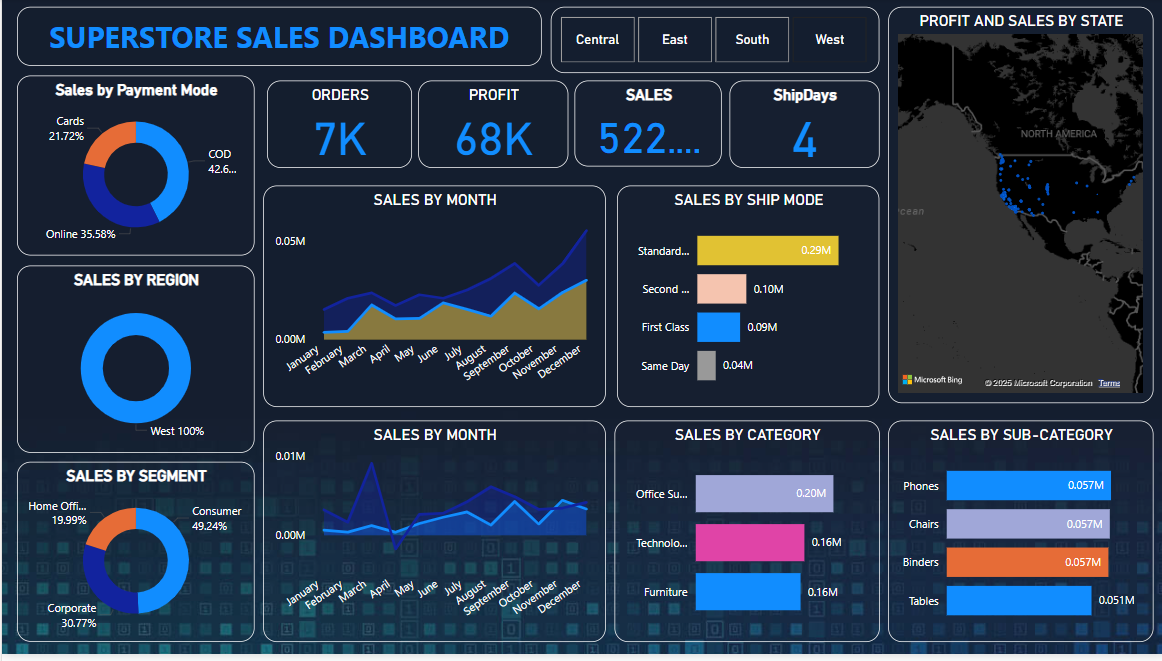

This screenshot's page, from the dashboard's own definition file:
{"tool":"powerbi","page":{"name":"Page 1","canvas":[1280,720],"ordinal":0},"visuals":[{"type":"donutChart","title":" Sales by Payment Mode","fields":{"Category":["Sheet1.Payment Mode"],"Y":["Sum(Sheet1.Sales)"]},"box":[16.5,85.1,260.7,197.6],"z":0},{"type":"donutChart","title":"SALES BY REGION","fields":{"Category":["Sheet1.Region"],"Y":["Sum(Sheet1.Sales)"]},"box":[16.5,293.7,260.7,205.8],"z":1000},{"type":"donutChart","title":"SALES BY SEGMENT","fields":{"Category":["Sheet1.Segment"],"Y":["CountNonNull(Sheet1.Sales)"]},"box":[16.5,509.1,260.7,197.6],"z":2000},{"type":"areaChart","title":"SALES BY MONTH","fields":{"Y":["Sum(Sheet1.Sales)"],"Category":["Sheet1.Order Date.Variation.Date Hierarchy.Month"],"Series":["Sheet1.Order Date.Variation.Date Hierarchy.Year"]},"box":[286.8,205.8,376,242.9],"z":3000},{"type":"areaChart","title":"SALES BY MONTH","fields":{"Y":["Sum(Sheet1.Profit)"],"Series":["Sheet1.Order Date.Variation.Date Hierarchy.Year"],"Category":["Sheet1.Order Date.Variation.Date Hierarchy.Month"]},"box":[286.8,463.8,376,242.9],"z":4000},{"type":"clusteredBarChart","title":"SALES BY SHIP MODE","fields":{"Category":["Sheet1.Ship Mode"],"Y":["Sum(Sheet1.Sales)"]},"box":[675.1,205.8,288.2,242.9],"z":5000},{"type":"clusteredBarChart","title":"SALES BY CATEGORY","fields":{"Y":["Sum(Sheet1.Sales)"],"Category":["Sheet1.Category"]},"box":[672.4,463.8,290.9,242.9],"z":6000},{"type":"clusteredBarChart","title":"SALES BY SUB-CATEGORY","fields":{"Category":["Sheet1.Sub-Category"],"Y":["Sum(Sheet1.Sales)"]},"box":[972.9,463.8,290.9,242.9],"z":7000},{"type":"card","title":"PROFIT","fields":{"Values":["Sum(Sheet1.Profit)"]},"box":[456.9,90.6,164.7,96.1],"z":8000},{"type":"card","title":"SALES","fields":{"Values":["Sum(Sheet1.Sales)"]},"box":[628.5,90.6,161.9,94.7],"z":9000},{"type":"card","title":"ORDERS","fields":{"Values":["Sum(Sheet1.Quantity)"]},"box":[290.9,90.6,159.2,96.1],"z":10000},{"type":"textbox","box":[16.5,9.6,576.3,64.5],"z":11000},{"type":"advancedSlicerVisual","title":"SALES","fields":{"Values":["Sheet1.Region"]},"box":[602.4,9.6,360.9,72.7],"z":12000},{"type":"map","title":"PROFIT AND SALES BY STATE","fields":{"Category":["Sheet1.City"],"Size":["Sum(Sheet1.Profit)"]},"box":[972.9,9.6,290.9,435],"z":13000},{"type":"card","title":"ShipDays","fields":{"Values":["Sheet1.AvgShipDays"]},"box":[798.6,90.6,164.7,96.1],"z":14000}]}

Visuals, with their boxes in screenshot pixels (x1, y1, x2, y2), scaled from the page's 1280x720 canvas onto the 1162x661 screenshot:
" Sales by Payment Mode" donutChart: box(15, 78, 252, 260)
"SALES BY REGION" donutChart: box(15, 270, 252, 459)
"SALES BY SEGMENT" donutChart: box(15, 467, 252, 649)
"SALES BY MONTH" areaChart: box(260, 189, 602, 412)
"SALES BY MONTH" areaChart: box(260, 426, 602, 649)
"SALES BY SHIP MODE" clusteredBarChart: box(613, 189, 874, 412)
"SALES BY CATEGORY" clusteredBarChart: box(610, 426, 874, 649)
"SALES BY SUB-CATEGORY" clusteredBarChart: box(883, 426, 1147, 649)
"PROFIT" card: box(415, 83, 564, 171)
"SALES" card: box(571, 83, 718, 170)
"ORDERS" card: box(264, 83, 409, 171)
textbox: box(15, 9, 538, 68)
"SALES" advancedSlicerVisual: box(547, 9, 874, 76)
"PROFIT AND SALES BY STATE" map: box(883, 9, 1147, 408)
"ShipDays" card: box(725, 83, 874, 171)
